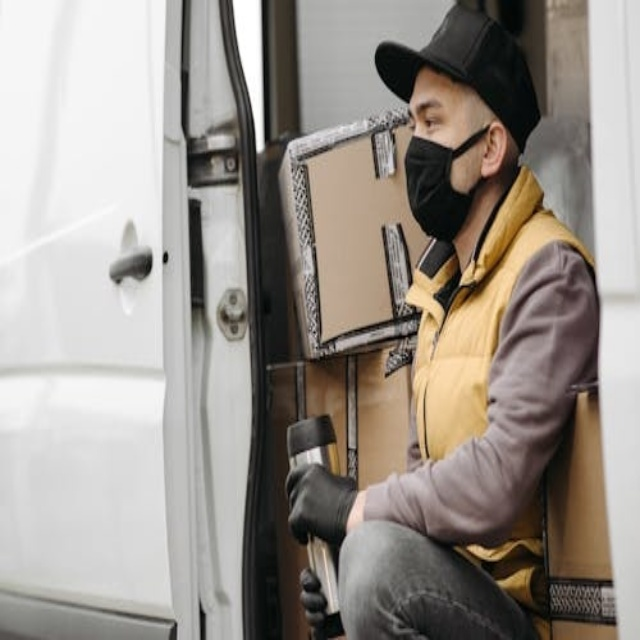Guantes: (286, 459, 357, 549), (300, 568, 336, 635)
Mascara: (404, 123, 491, 241)
Sin_gafas: (404, 79, 461, 140)
